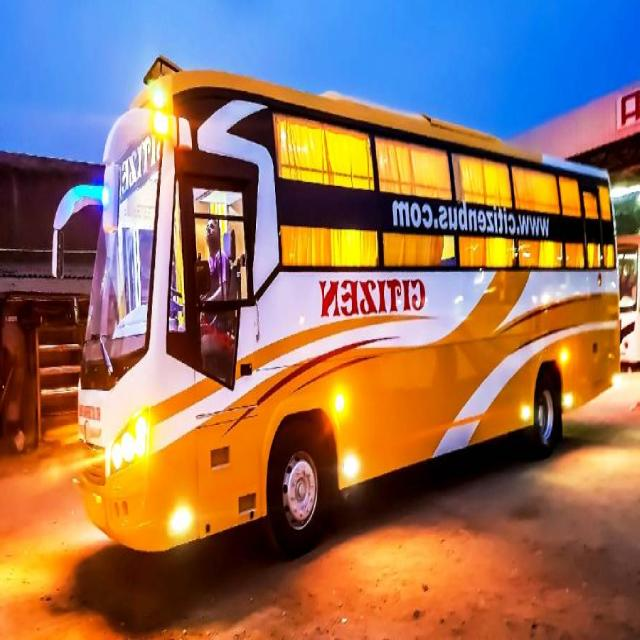bus: (52, 58, 619, 556), (619, 236, 640, 364)
